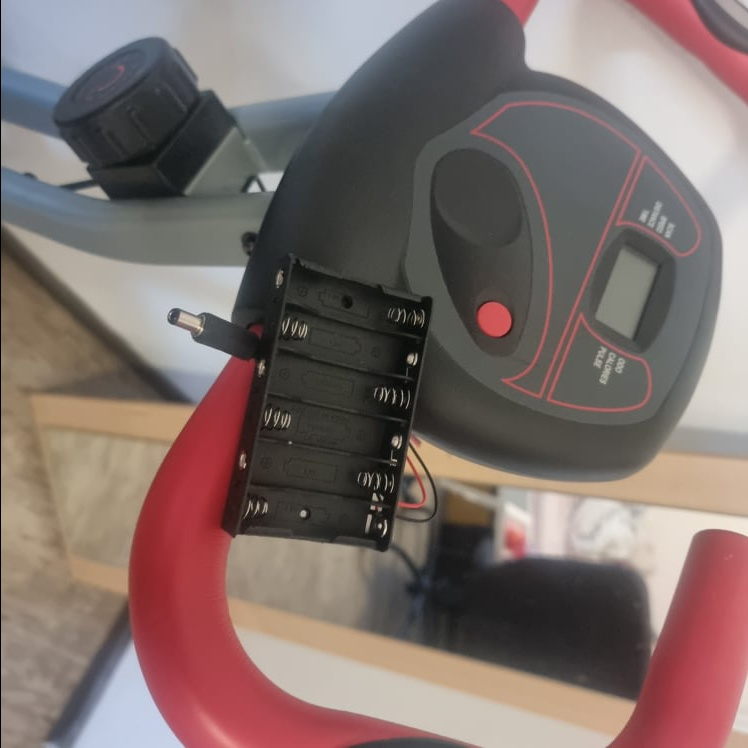BATTERY BOX: (219, 254, 433, 553)
